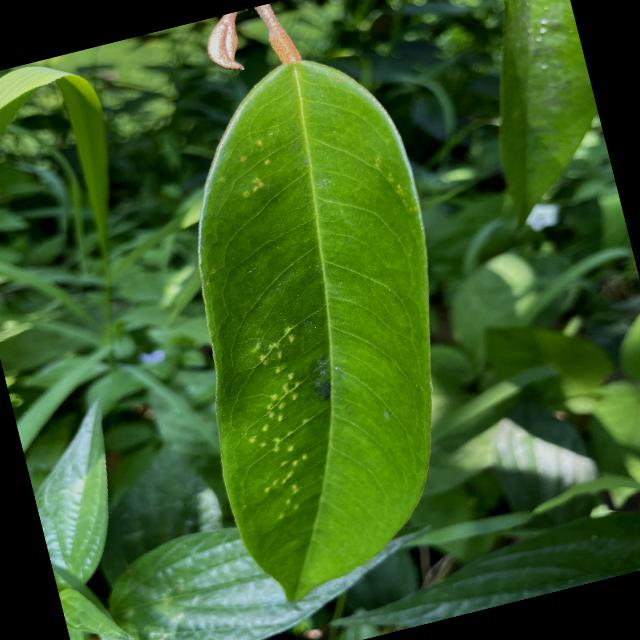Leaf Spot: (116, 19, 522, 622)
